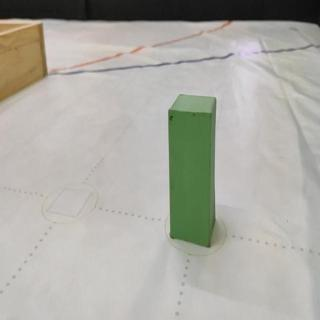greenbox: (169, 89, 217, 247)
